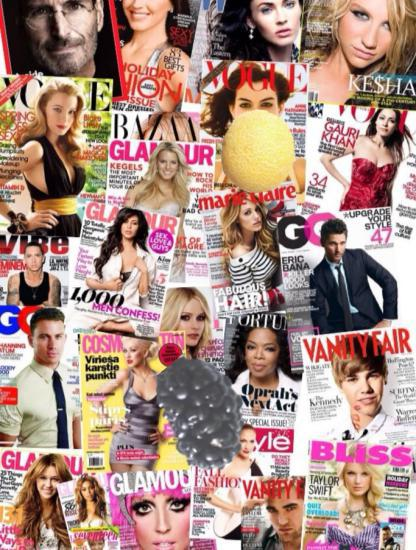Cantaloupe: (218, 110, 302, 194)
Mulberry: (144, 356, 259, 471)
